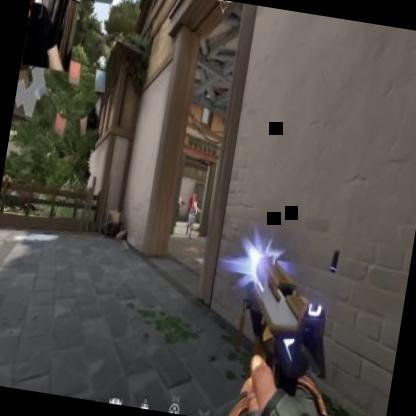enemy: (184, 194, 202, 238), (172, 194, 188, 230)
enemy_head: (177, 194, 182, 202), (192, 193, 196, 202)
